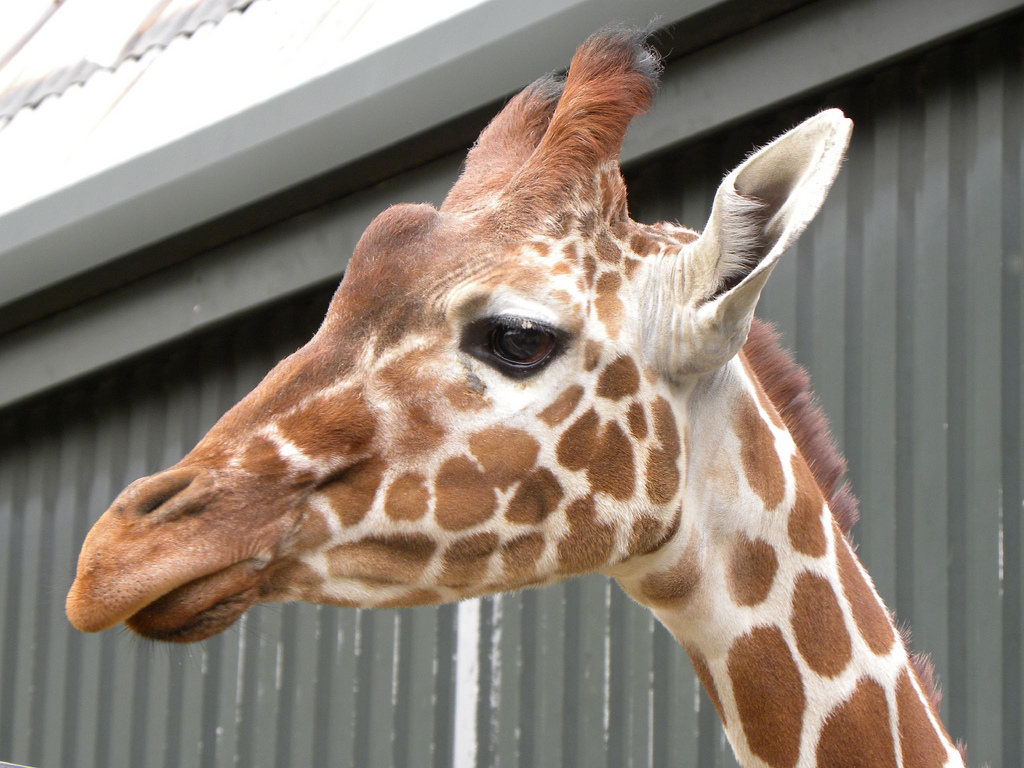giraffe: (107, 72, 930, 704)
